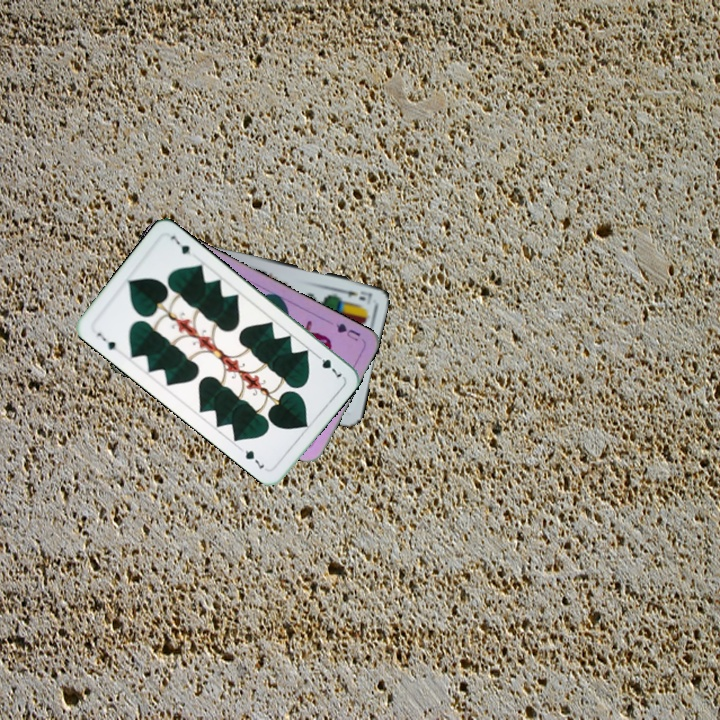EK: (333, 284, 374, 303)
G7: (311, 349, 345, 380), (93, 328, 118, 353)
GU: (331, 319, 363, 344)
